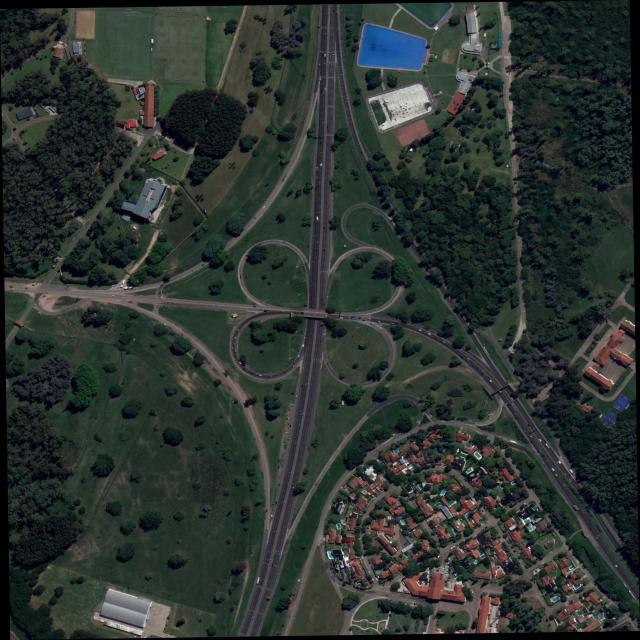large-vehicle: (120, 280, 126, 288), (573, 505, 579, 511), (256, 577, 260, 584), (124, 287, 133, 289), (342, 401, 344, 405)
small-vehicle: (569, 469, 573, 474), (403, 542, 408, 546), (630, 586, 634, 590), (582, 512, 586, 516), (542, 454, 546, 458), (547, 445, 551, 449), (316, 216, 319, 221), (319, 76, 322, 81), (285, 608, 289, 611), (160, 322, 163, 326), (288, 598, 292, 601), (291, 365, 295, 368), (201, 264, 205, 267), (298, 579, 301, 583), (298, 423, 301, 427), (448, 571, 452, 574), (498, 390, 502, 393), (489, 380, 493, 383), (476, 367, 480, 370), (476, 499, 479, 503), (474, 501, 478, 504), (481, 509, 484, 513), (480, 524, 484, 527), (480, 528, 484, 531), (463, 539, 466, 543), (449, 547, 453, 550), (508, 403, 512, 406), (505, 402, 508, 406), (624, 574, 628, 577), (615, 564, 618, 568), (583, 571, 586, 575), (595, 537, 599, 540), (558, 460, 561, 464), (555, 461, 558, 465), (538, 439, 542, 442), (522, 503, 526, 506), (388, 571, 392, 574), (417, 562, 421, 565), (416, 604, 420, 607), (390, 579, 394, 582), (286, 417, 290, 420), (427, 566, 429, 571), (297, 355, 300, 358), (293, 362, 296, 365), (284, 371, 287, 374), (242, 368, 245, 371), (163, 324, 166, 327), (181, 333, 184, 336), (263, 206, 266, 209), (254, 217, 257, 220), (192, 269, 195, 272), (160, 296, 163, 299), (481, 372, 484, 375), (507, 355, 510, 358), (469, 363, 472, 366), (467, 358, 470, 361), (514, 417, 517, 420), (477, 526, 480, 529), (485, 526, 488, 529), (448, 558, 451, 561), (510, 397, 513, 400), (564, 473, 567, 476), (485, 521, 488, 524), (589, 527, 592, 530), (562, 484, 565, 487), (523, 430, 526, 433), (555, 474, 558, 477), (552, 468, 555, 471), (545, 443, 548, 446), (528, 423, 531, 426), (537, 450, 540, 453), (530, 440, 533, 443), (413, 529, 416, 532), (344, 570, 347, 573), (339, 575, 342, 578), (290, 592, 293, 595), (288, 594, 291, 597), (362, 559, 365, 562), (400, 573, 403, 576), (376, 578, 379, 581), (383, 584, 386, 587), (471, 590, 474, 593), (493, 629, 496, 632), (236, 360, 238, 364), (231, 347, 233, 351), (290, 313, 294, 315), (305, 336, 307, 340), (333, 575, 337, 577), (327, 125, 329, 129), (320, 141, 322, 145), (312, 161, 314, 165), (320, 163, 322, 167), (319, 192, 321, 196), (321, 89, 323, 93), (272, 563, 274, 567), (471, 109, 475, 111), (442, 341, 446, 343), (456, 544, 460, 546), (452, 546, 456, 548), (448, 576, 452, 578), (291, 594, 295, 596), (376, 554, 380, 556), (372, 578, 374, 582), (407, 532, 411, 534), (410, 473, 414, 475), (377, 459, 379, 463), (445, 586, 449, 588), (454, 578, 456, 582), (496, 625, 500, 627), (427, 333, 431, 335), (395, 322, 399, 324), (391, 323, 395, 325), (377, 321, 381, 323), (367, 318, 371, 320), (468, 108, 470, 111), (269, 375, 272, 377), (259, 374, 262, 376), (251, 372, 254, 374), (234, 350, 236, 353), (233, 343, 235, 346), (234, 337, 236, 340), (237, 329, 239, 332), (253, 306, 256, 308), (169, 327, 172, 329), (160, 307, 163, 309), (172, 302, 175, 304), (296, 394, 298, 397), (299, 411, 301, 414), (282, 624, 284, 627), (301, 385, 303, 388), (282, 179, 284, 182), (316, 167, 318, 170), (316, 176, 318, 179), (315, 187, 317, 190), (319, 206, 321, 209), (307, 329, 309, 332), (312, 261, 314, 264), (240, 276, 242, 279), (321, 298, 323, 301), (301, 312, 304, 314), (312, 314, 315, 316), (287, 606, 290, 608), (295, 588, 298, 590), (271, 515, 273, 518), (285, 432, 287, 435), (287, 437, 289, 440), (285, 441, 287, 444), (283, 459, 285, 462), (278, 459, 280, 462), (278, 466, 280, 469), (278, 483, 280, 486), (275, 502, 277, 505), (266, 509, 268, 512), (35, 283, 38, 285), (32, 284, 35, 286), (25, 287, 28, 289), (10, 286, 13, 288), (11, 289, 14, 291), (324, 88, 326, 91), (461, 357, 464, 359), (449, 297, 451, 300), (503, 85, 505, 88), (455, 540, 458, 542), (437, 556, 440, 558), (458, 145, 460, 148), (533, 581, 536, 583), (446, 562, 449, 564), (367, 568, 369, 571), (368, 571, 370, 574), (403, 589, 405, 592), (418, 597, 421, 599), (414, 603, 416, 606), (333, 9, 335, 12), (333, 53, 335, 56), (324, 54, 326, 57), (469, 587, 472, 589), (474, 596, 476, 599), (469, 630, 471, 633), (435, 337, 438, 339), (419, 329, 422, 331), (360, 151, 363, 153), (351, 316, 354, 318), (340, 317, 343, 319), (266, 304, 268, 306), (263, 311, 267, 312), (318, 183, 319, 187), (289, 425, 291, 427), (160, 291, 161, 295), (508, 163, 510, 165), (443, 563, 445, 565), (373, 582, 375, 584), (336, 11, 338, 13), (496, 624, 500, 625), (495, 627, 499, 628), (335, 26, 336, 30), (359, 317, 361, 319), (294, 312, 297, 313), (281, 311, 284, 312), (331, 117, 332, 120), (324, 226, 325, 229), (316, 248, 317, 251), (314, 235, 315, 238), (324, 248, 325, 251), (324, 316, 327, 317), (293, 486, 294, 489), (273, 508, 274, 511), (112, 295, 115, 296), (503, 81, 504, 84), (531, 596, 534, 597), (448, 578, 451, 579), (323, 54, 324, 57), (447, 580, 450, 581), (445, 585, 448, 586), (490, 626, 493, 627), (363, 320, 366, 321), (352, 319, 355, 320), (319, 64, 320, 66)
storage-tank: (14, 127, 18, 131)
